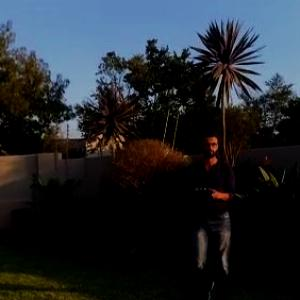follow: (185, 125, 239, 299)
